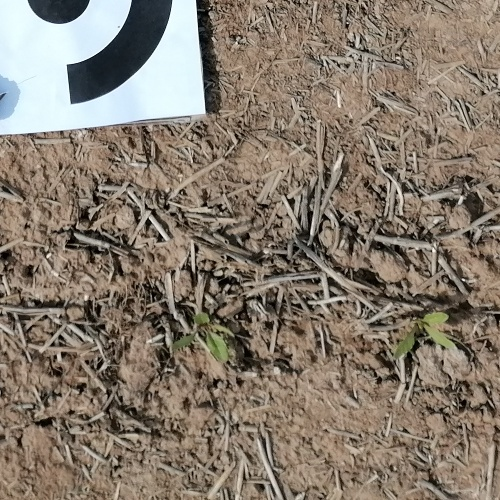beet: (390, 312, 458, 365), (173, 312, 236, 365)
